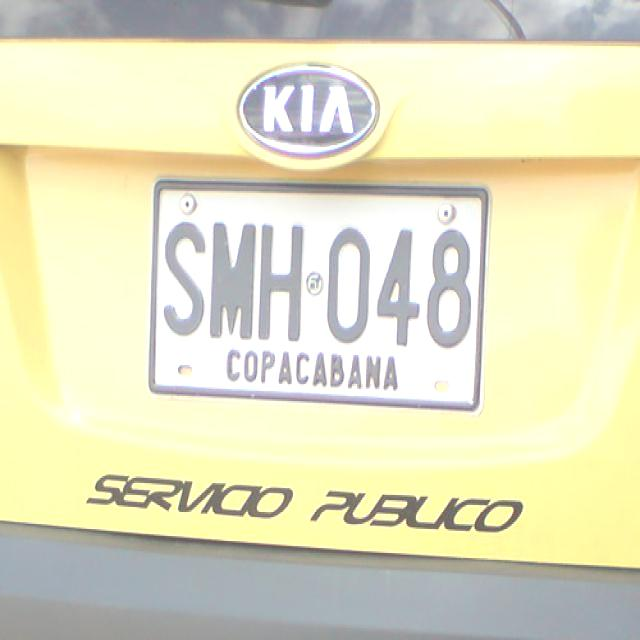placa: (144, 170, 494, 418)
